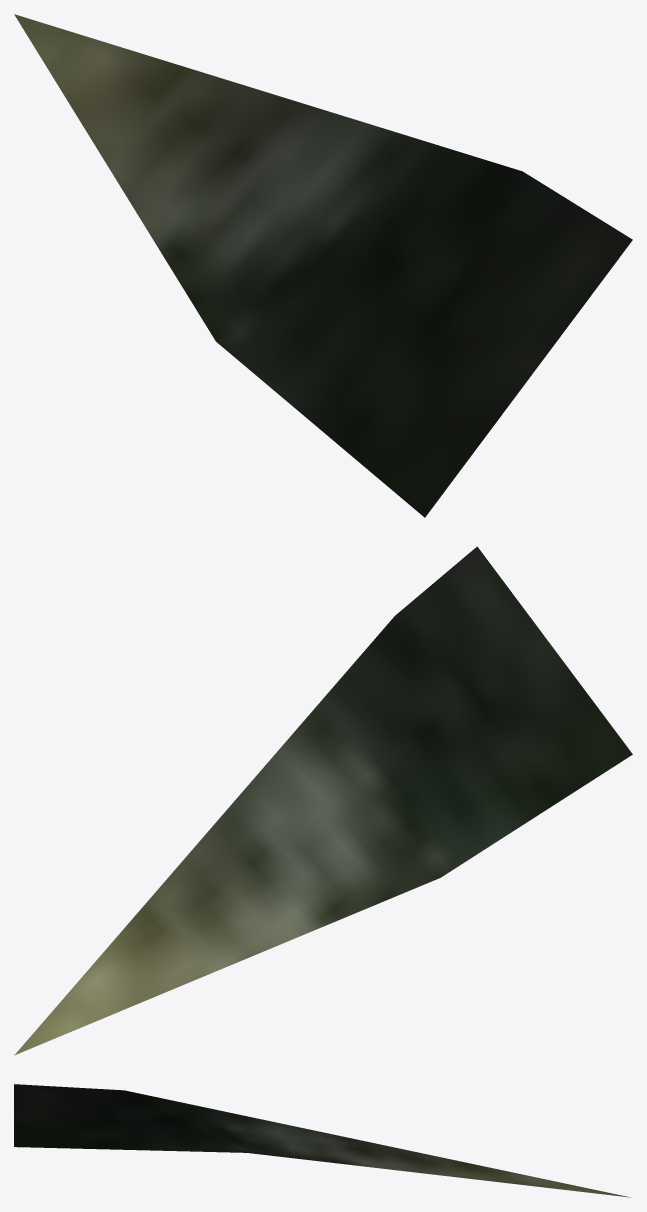
3 views of the same model, one above another, from view 1: azimuth 30°, elevation 25°; view 2: azimuth 150°, elevation 25°; view 3: azimuth 270°, elevation 25° (orthographic). The views are drawn at different scales.
Size of the model in its own units: 0.1887 by 0.1971 by 0.9726.
Materials: 1 (1 with a texture image).
